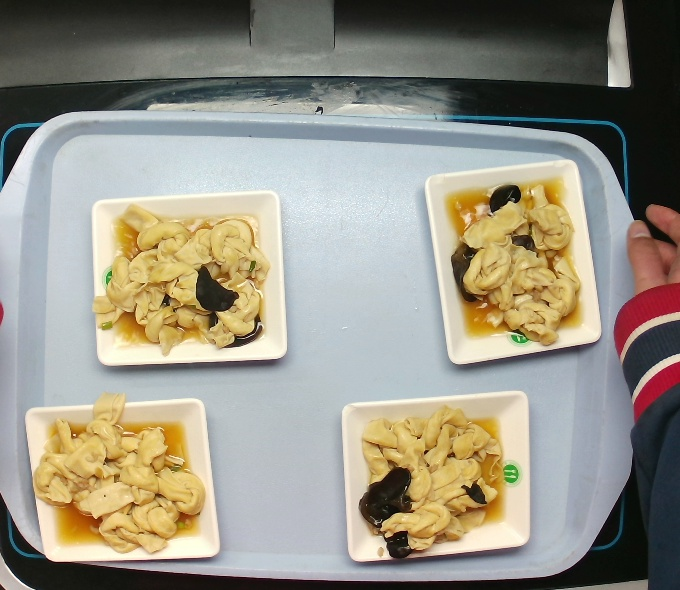wcq-QianZhangJie: (92, 205, 274, 359), (35, 396, 205, 559), (356, 401, 507, 568), (443, 175, 586, 350)
